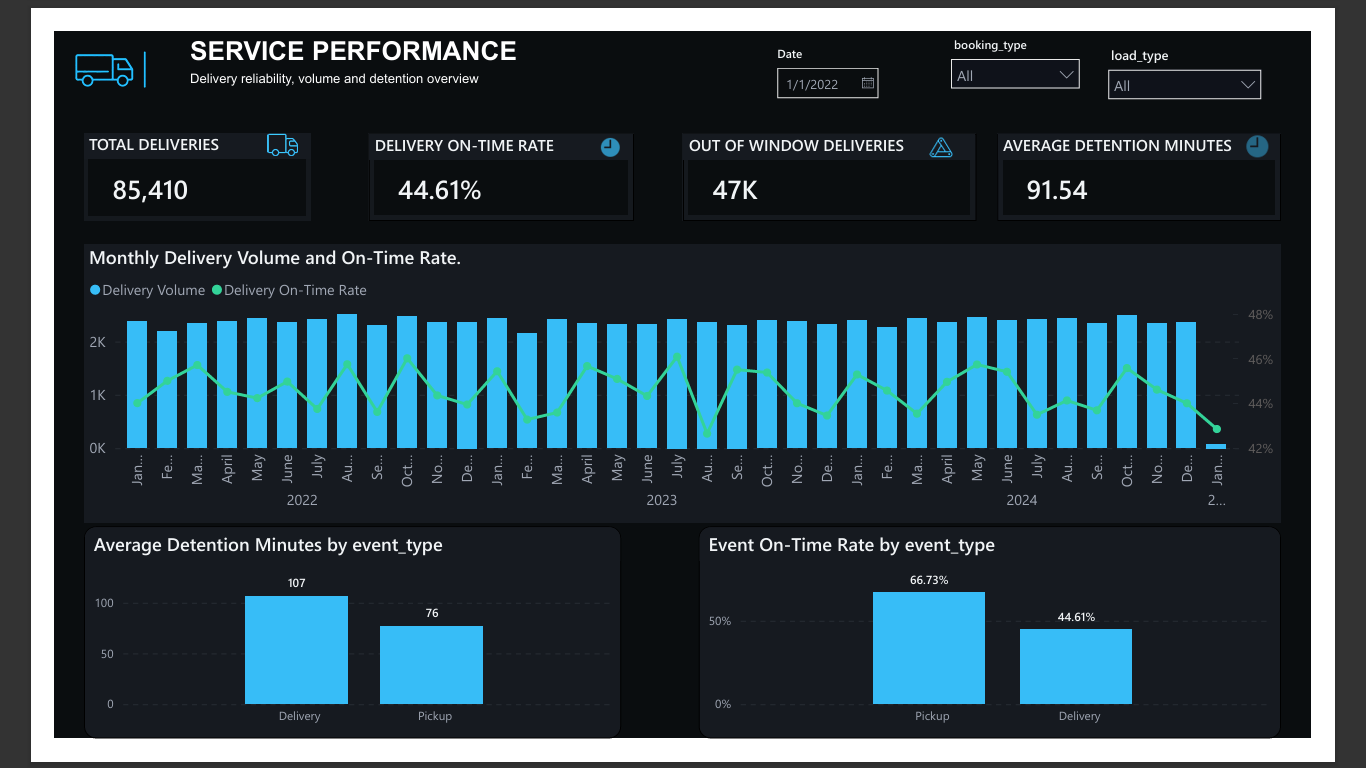

This screenshot's page, from the dashboard's own definition file:
{"tool":"powerbi","page":{"name":"SERVICE PERFORMANCE","canvas":[1280,720],"ordinal":3},"visuals":[{"type":"cardVisual","title":"DELIVERY ON-TIME RATE","fields":{"Data":["delivery_events.Delivery On-Time Rate"]},"box":[320,104.3,270,88.6],"z":0},{"type":"cardVisual","title":"OUT OF WINDOW DELIVERIES","fields":{"Data":["delivery_events.Out-of-Window Deliveries"]},"box":[640,104.3,298.6,88.6],"z":1000},{"type":"cardVisual","title":"AVERAGE DETENTION MINUTES","fields":{"Data":["delivery_events.Average Detention Minutes"]},"box":[960,104.3,288.6,88.6],"z":2000},{"type":"clusteredColumnChart","fields":{"Category":["delivery_events.event_type"],"Y":["delivery_events.Event On-Time Rate"]},"box":[655.7,504.3,592.9,215.7],"z":3000},{"type":"clusteredColumnChart","fields":{"Category":["delivery_events.event_type"],"Y":["delivery_events.Average Detention Minutes"]},"box":[30,504.3,547.1,215.7],"z":4000},{"type":"cardVisual","title":"TOTAL DELIVERIES","fields":{"Data":["delivery_events.Total Deliveries"]},"box":[30,104.3,231.4,88.6],"z":5000},{"type":"textbox","box":[132.9,0,411.4,64.3],"z":6000},{"type":"image","box":[0,0,107.1,71.4],"z":7000},{"type":"lineClusteredColumnComboChart","title":"Monthly Delivery Volume and On-Time Rate.","fields":{"Category":["DateTable.Month Year.Variation.Date Hierarchy.Year","DateTable.Month Year.Variation.Date Hierarchy.Month"],"Y":["delivery_events.Delivery Volume"],"Y2":["delivery_events.Delivery On-Time Rate"]},"box":[30,217.1,1218.6,284.3],"z":8000},{"type":"image","box":[867.1,105.7,71.4,24.3],"z":9000},{"type":"image","box":[204.3,95.7,57.1,31.4],"z":10000},{"type":"image","box":[531.4,105.7,68.6,24.3],"z":11000},{"type":"image","box":[1190,102.9,68.6,28.6],"z":12000},{"type":"slicer","fields":{"Values":["DateTable.Date"]},"box":[722.9,8.6,180,62.9],"z":13000},{"type":"slicer","fields":{"Values":["loads.booking_type"]},"box":[902.9,0,151.4,64.3],"z":14000},{"type":"slicer","fields":{"Values":["loads.load_type"]},"box":[1062.9,10,175.7,61.4],"z":15000}]}

Visuals, with their boxes in screenshot pixels (x1, y1, x2, y2), scaled from the page's 1280x720 canvas onto the 1366x768 screenshot:
"DELIVERY ON-TIME RATE" cardVisual: x1=342 y1=111 x2=630 y2=206
"OUT OF WINDOW DELIVERIES" cardVisual: x1=683 y1=111 x2=1002 y2=206
"AVERAGE DETENTION MINUTES" cardVisual: x1=1024 y1=111 x2=1332 y2=206
clusteredColumnChart - delivery_events.event_type x delivery_events.Event On-Time Rate: x1=700 y1=538 x2=1332 y2=767
clusteredColumnChart - delivery_events.event_type x delivery_events.Average Detention Minutes: x1=32 y1=538 x2=616 y2=767
"TOTAL DELIVERIES" cardVisual: x1=32 y1=111 x2=279 y2=206
textbox: x1=142 y1=0 x2=581 y2=69
image: x1=0 y1=0 x2=114 y2=76
"Monthly Delivery Volume and On-Time Rate." lineClusteredColumnComboChart: x1=32 y1=232 x2=1332 y2=535
image: x1=925 y1=113 x2=1002 y2=139
image: x1=218 y1=102 x2=279 y2=136
image: x1=567 y1=113 x2=640 y2=139
image: x1=1270 y1=110 x2=1343 y2=140
slicer - DateTable.Date: x1=771 y1=9 x2=964 y2=76
slicer - loads.booking_type: x1=964 y1=0 x2=1125 y2=69
slicer - loads.load_type: x1=1134 y1=11 x2=1322 y2=76
